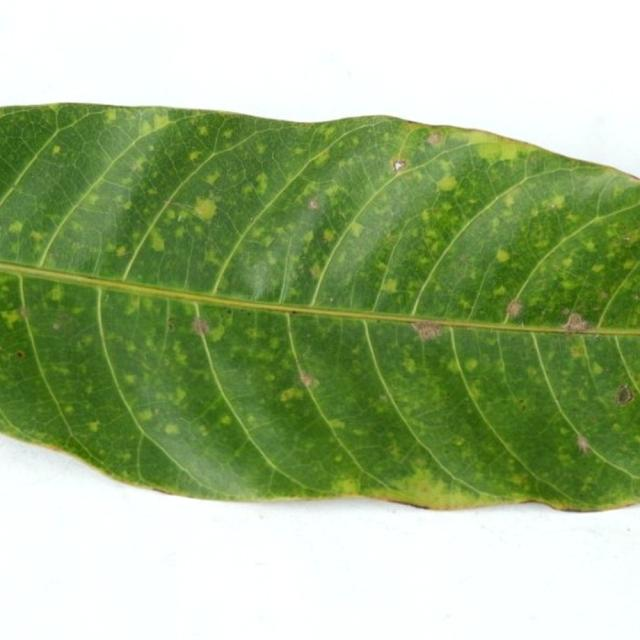Mango: (0, 104, 639, 515)
Powdery_Mildew: (188, 305, 243, 451), (45, 196, 126, 273), (252, 121, 335, 193), (594, 207, 640, 326), (89, 118, 155, 188), (0, 175, 56, 254), (529, 330, 566, 432), (231, 226, 292, 282), (385, 125, 444, 175), (176, 186, 229, 230), (276, 221, 301, 304), (178, 215, 203, 295), (247, 220, 290, 262), (610, 332, 636, 401), (423, 159, 465, 200), (436, 351, 485, 378), (279, 381, 313, 417), (242, 258, 272, 296), (160, 199, 215, 219), (189, 299, 205, 356), (373, 274, 408, 300), (487, 247, 522, 267), (17, 277, 29, 325), (51, 312, 72, 332), (123, 294, 141, 317), (207, 323, 226, 343), (204, 248, 222, 267), (47, 284, 64, 302), (153, 112, 169, 131), (348, 221, 365, 237), (173, 349, 188, 366), (205, 170, 220, 185), (174, 388, 187, 403), (591, 361, 604, 376), (85, 194, 99, 206), (329, 419, 345, 429), (591, 264, 605, 274)
